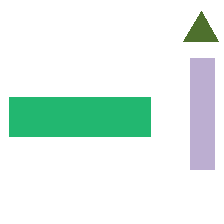rectangle: (9, 97, 150, 136), (190, 58, 214, 169)
triangle: (183, 11, 218, 41)
